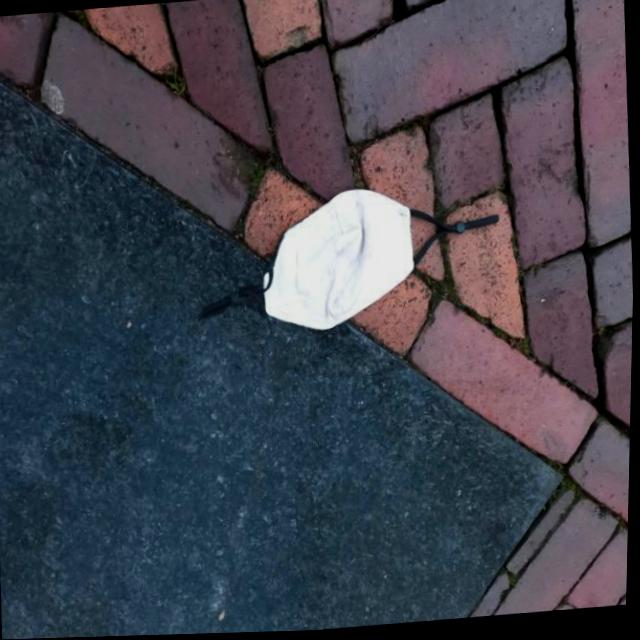Mask: (193, 177, 509, 346)
